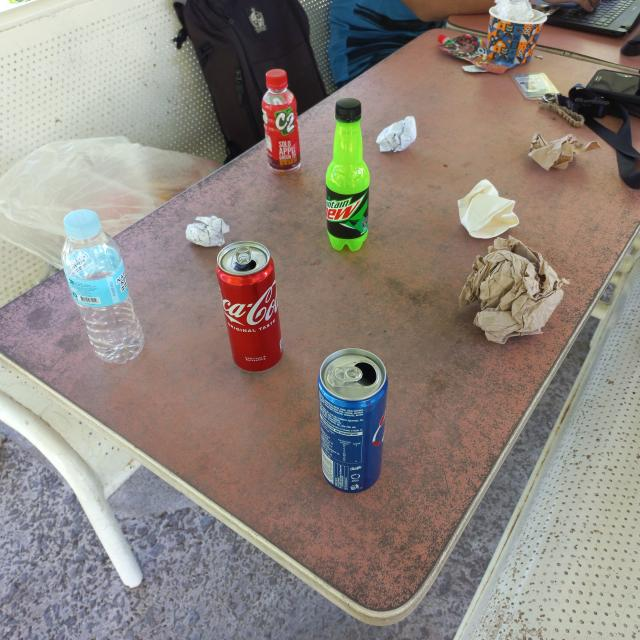Anorganik: (56, 201, 152, 373), (311, 341, 395, 500), (208, 234, 292, 378), (319, 92, 376, 257), (255, 61, 307, 177)
Organik: (456, 229, 576, 351), (448, 172, 529, 245), (517, 124, 609, 178), (367, 107, 429, 162), (179, 209, 237, 252)
